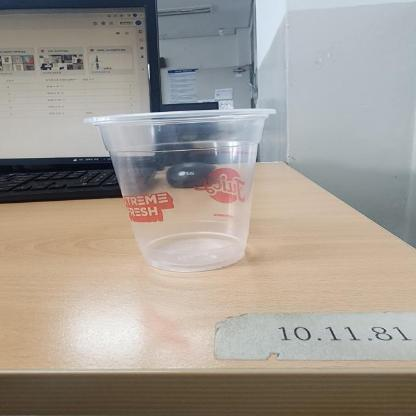Plastic Cup: (81, 108, 278, 270)
